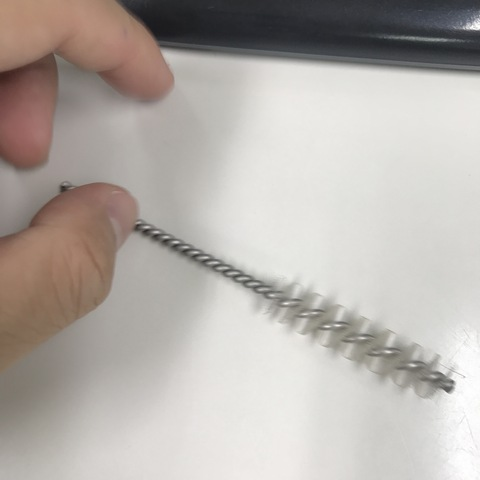Twist Brush-B: (49, 172, 461, 402)
